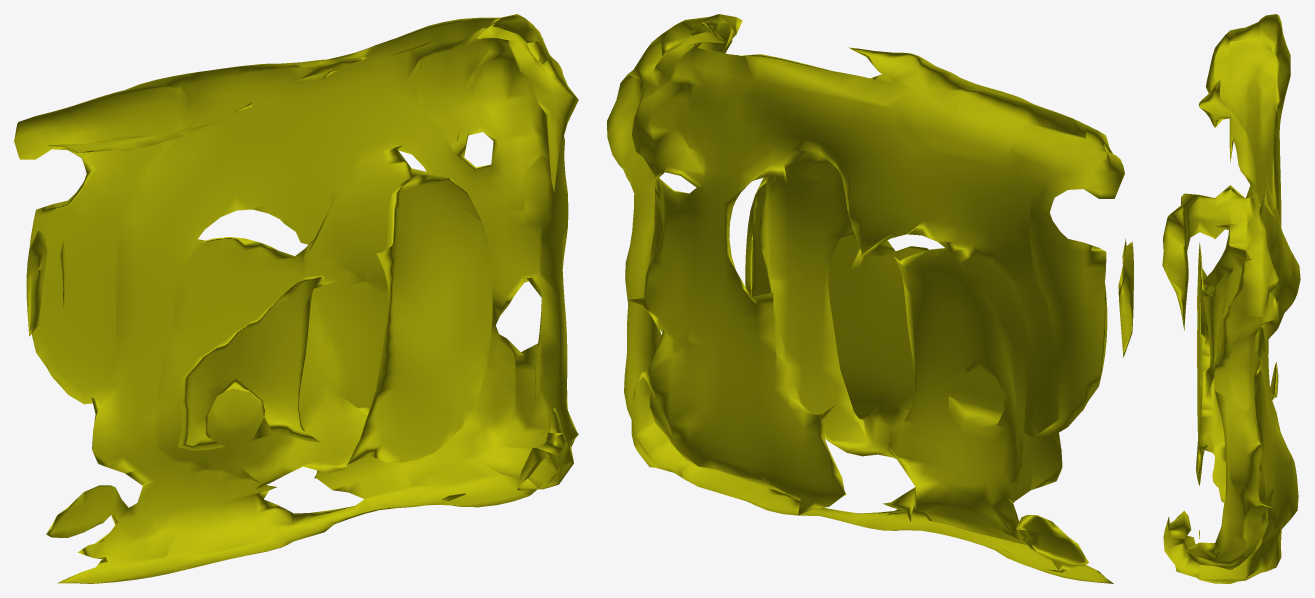
3 renders of one model, left to right at view 1: azimuth 30°, elevation 25°; view 2: azimuth 150°, elevation 25°; view 3: azimuth 270°, elevation 25°, orthographic. The views are drawn at different scales.
Visible parts, largest first — view 1: world; view 2: world; view 3: world.
Part boxes in pixels (left/top/right/bottom): world: left=14, top=14, right=578, bottom=583; world: left=607, top=14, right=1133, bottom=583; world: left=1162, top=14, right=1300, bottom=583.
Bounding box in the file's own units: 33.12 × 28.76 × 9.01.
